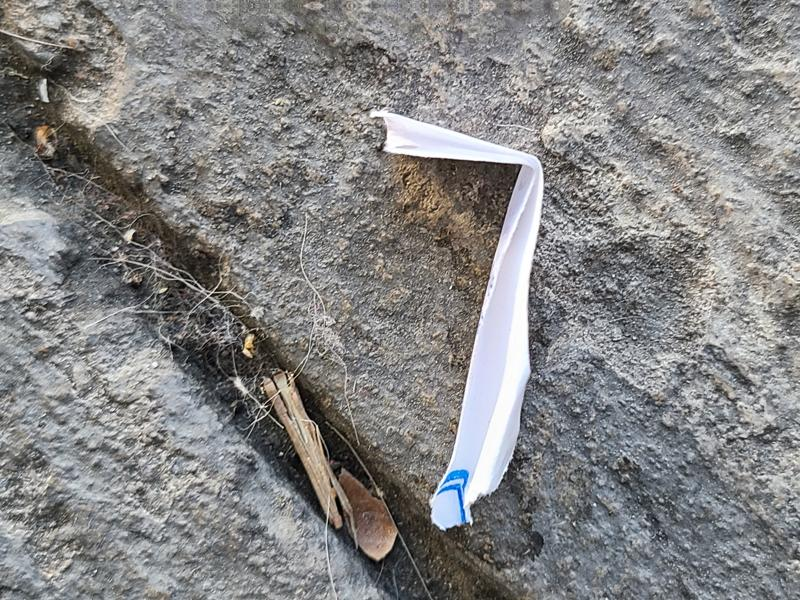papel: (380, 114, 545, 531)
